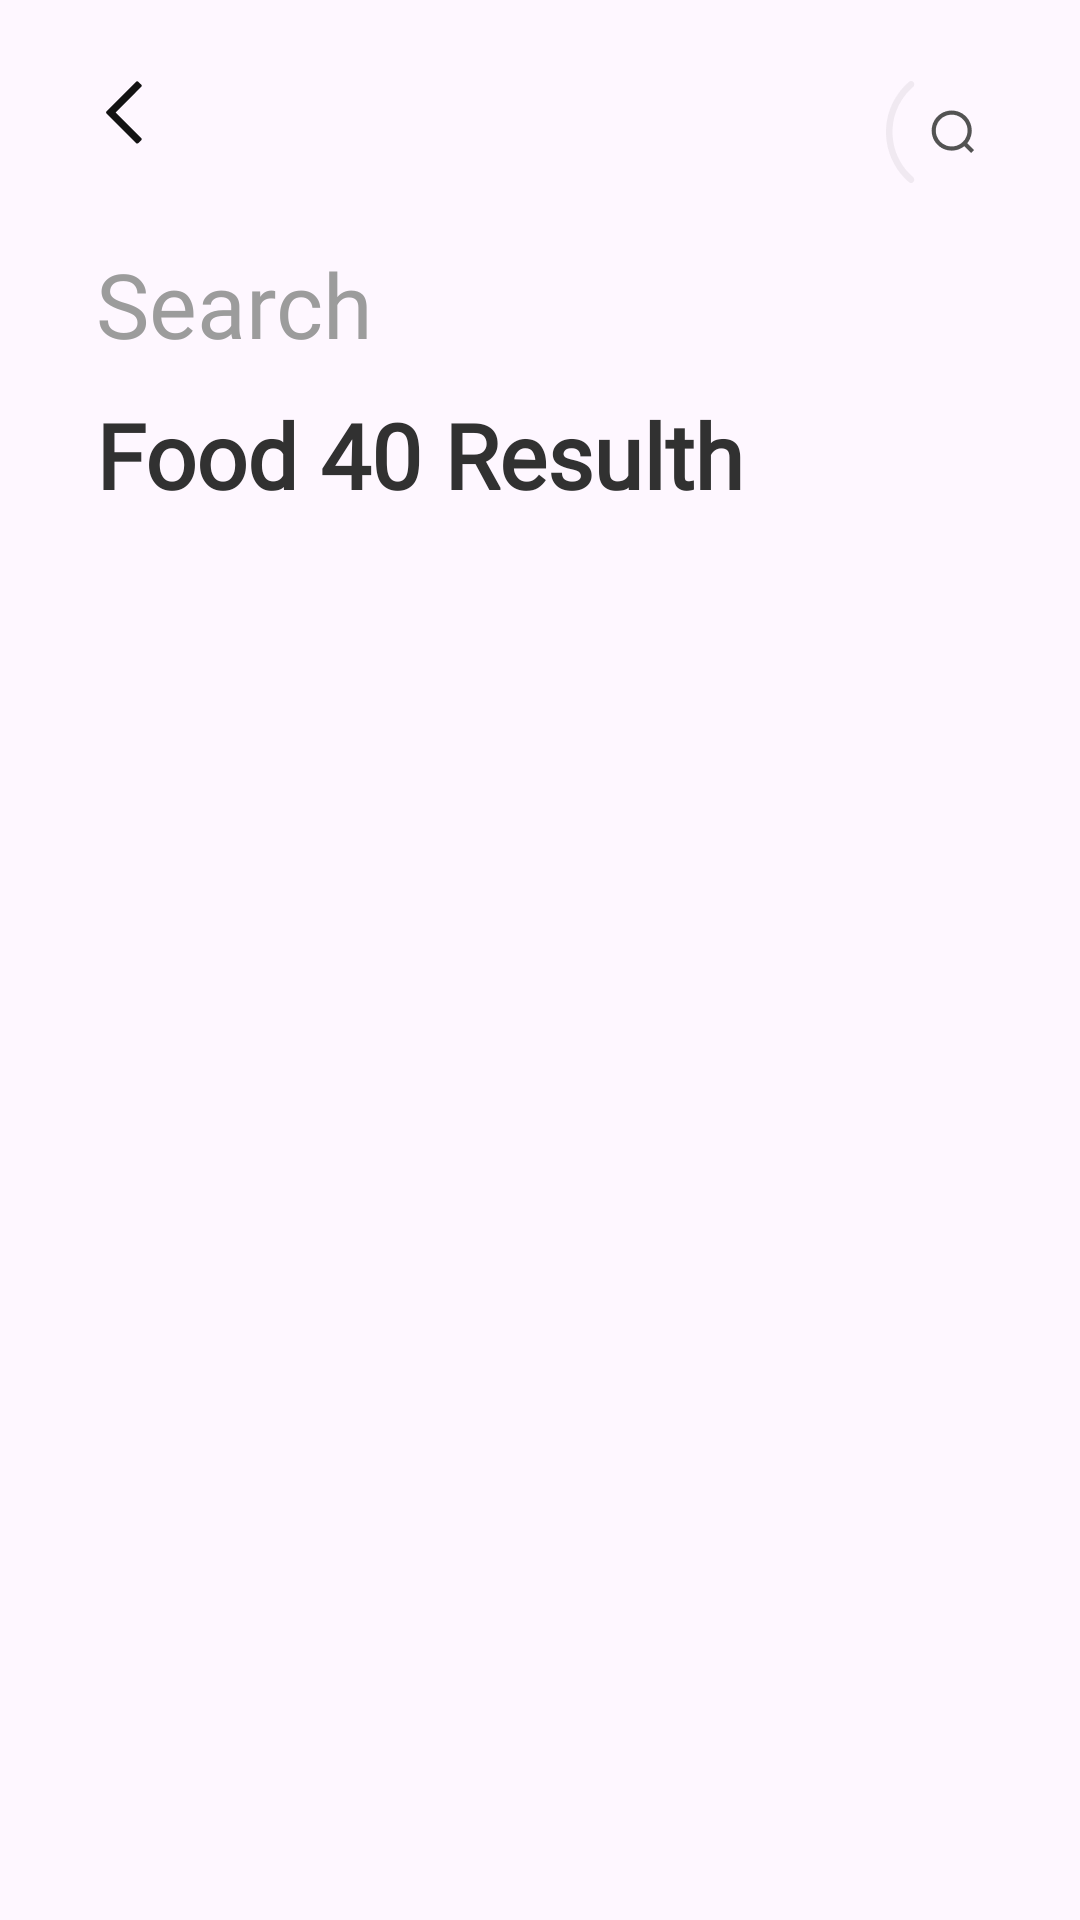

Icon click points for this 1080px x 1920px phone screenshot, format (x,y):
back: (124,112)
search: (952,131)
